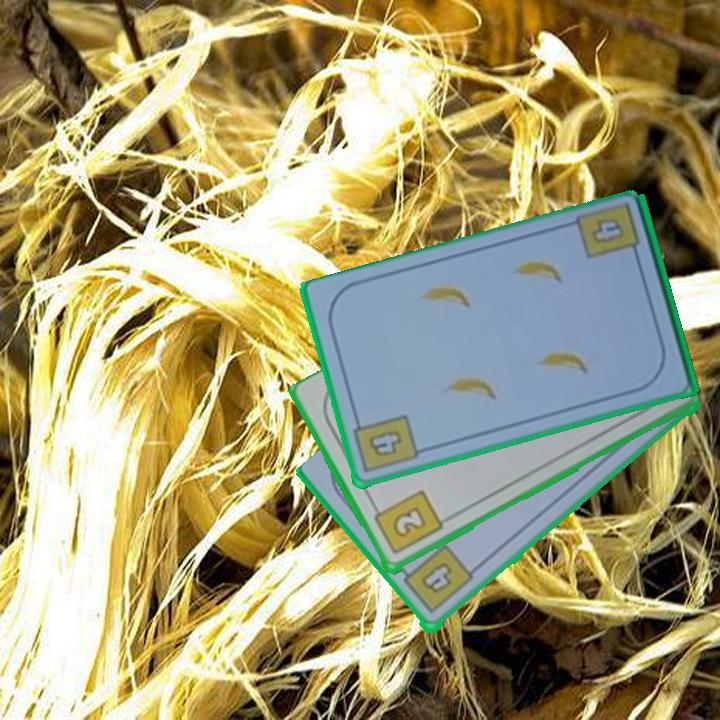2b: (369, 487, 446, 558)
4b: (396, 541, 476, 617), (350, 411, 421, 477), (587, 214, 628, 247)
